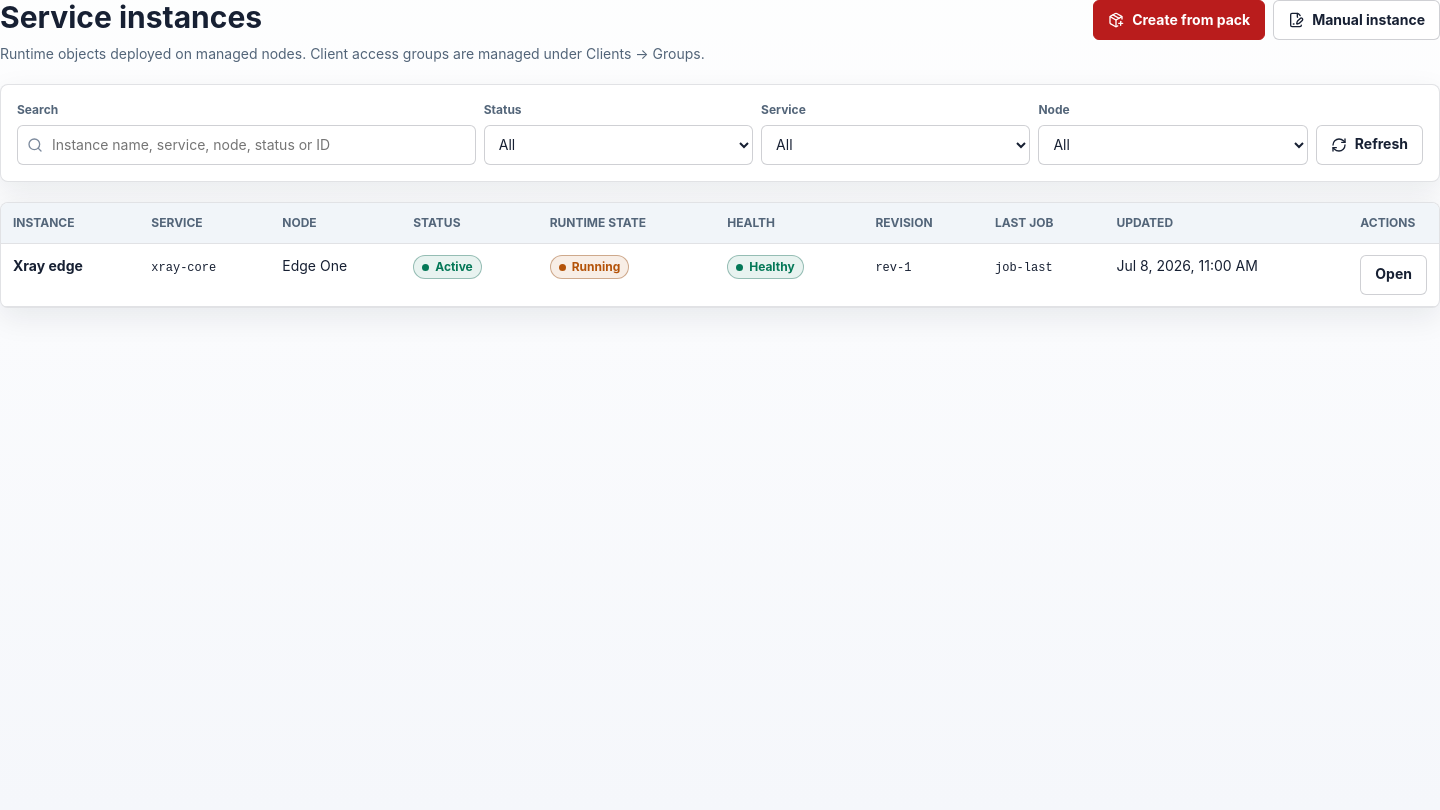
Scenario: InstancesPage › rolls back an explicit revision and queues a real apply job
The width and height of the screenshot is (1440, 810).
Expected: the text "Xray edge" is shown, [13,256,83,274]
Click the button "Open" at x=1394, y=274, box [1360,254,1427,294]
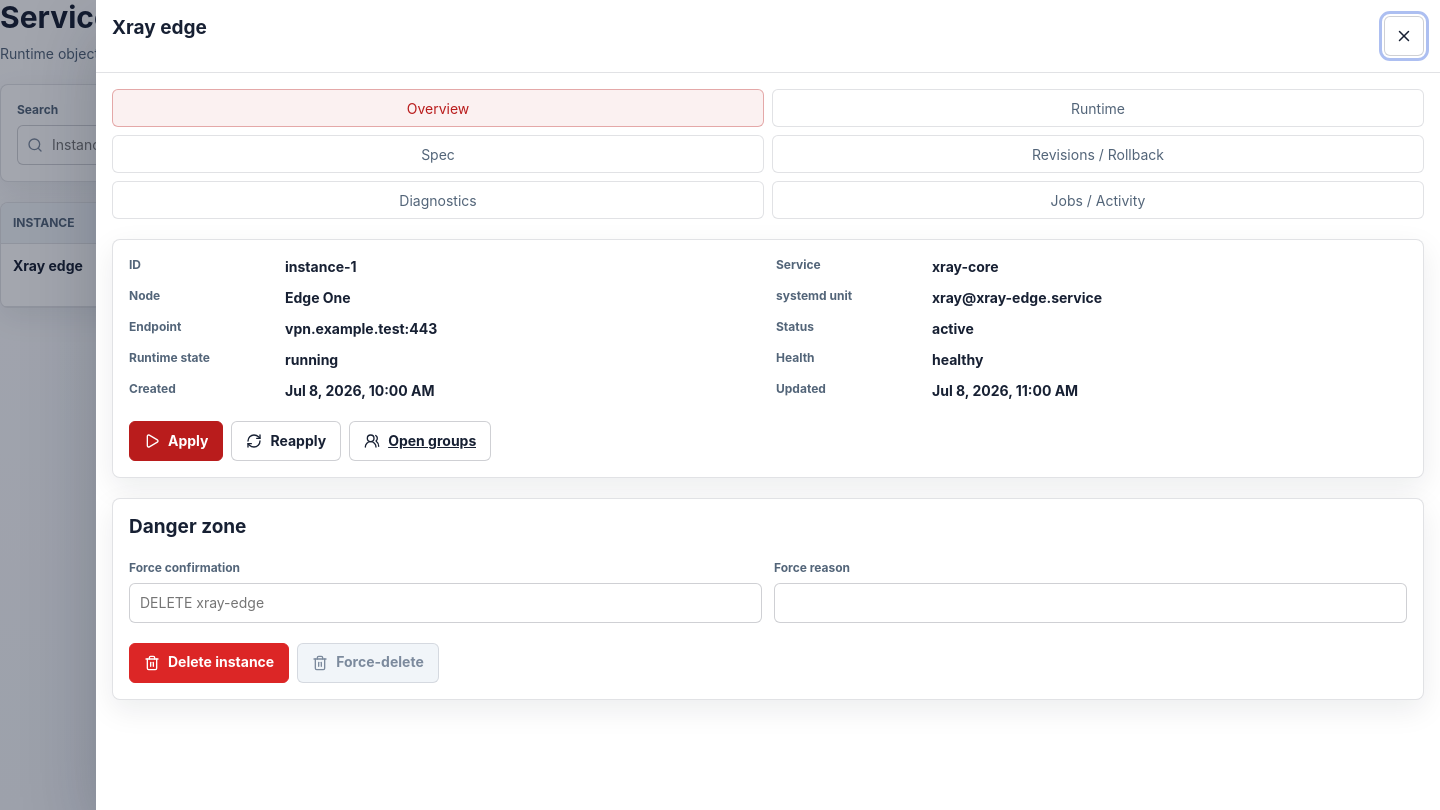
Result: the heading "Xray edge" is shown at [112,16,207,40]
Click the tab "Revisions / Rollback" at x=1098, y=154, box [772,135,1424,173]
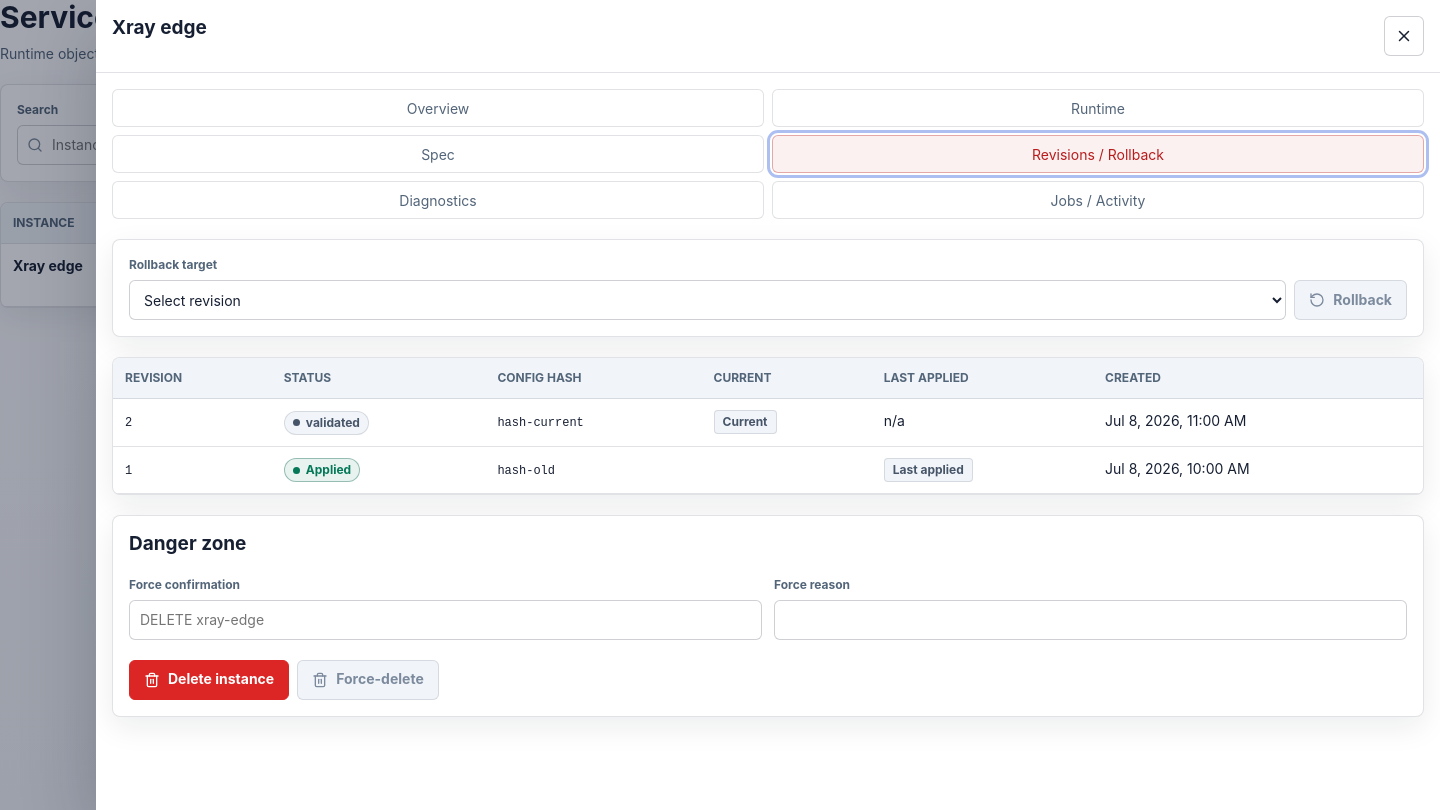
Select "#1 rev-1" in the dropdown labelled "Rollback target" at x=708, y=300, box [129,280,1286,320]
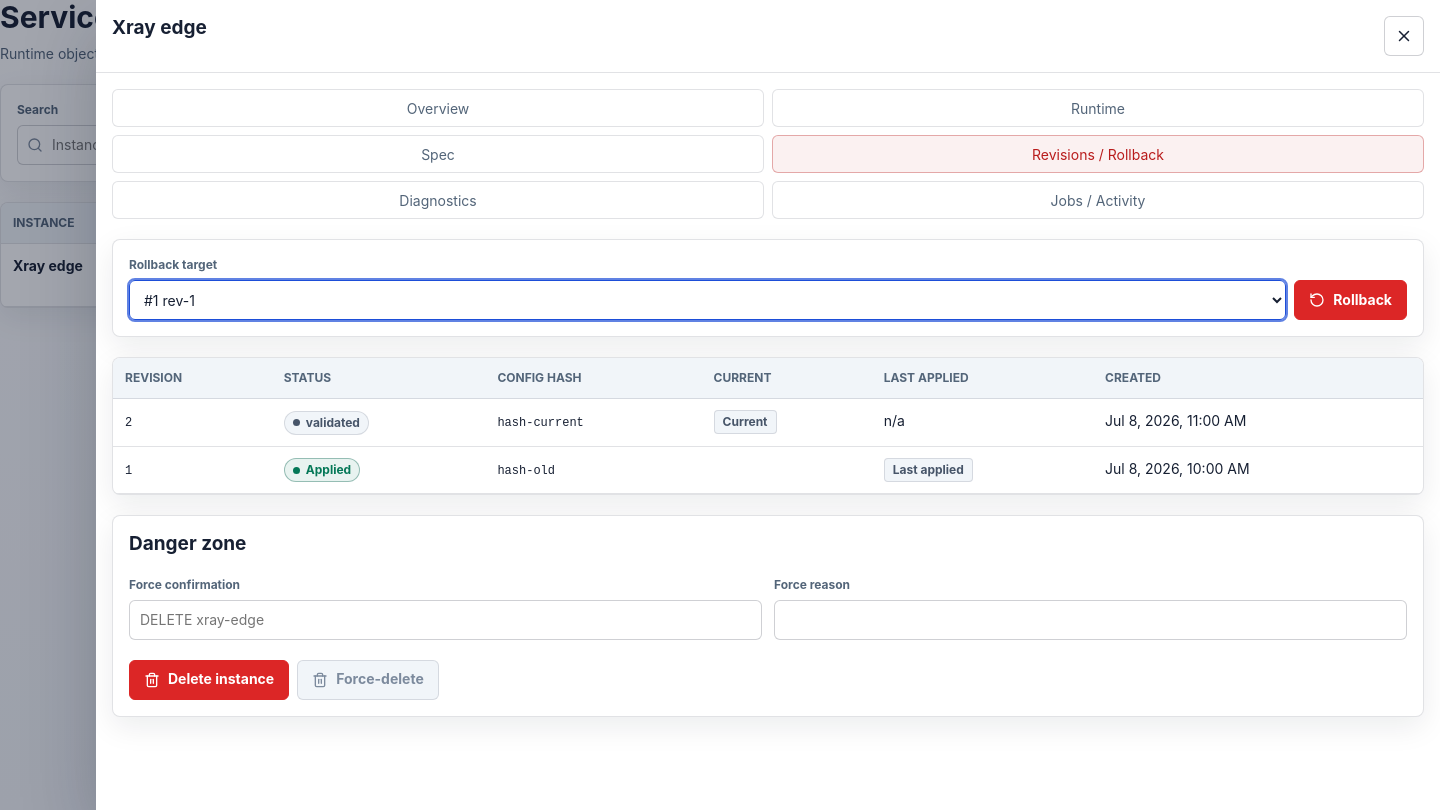
Click the button "Rollback" at x=1351, y=300, box [1294,280,1407,320]
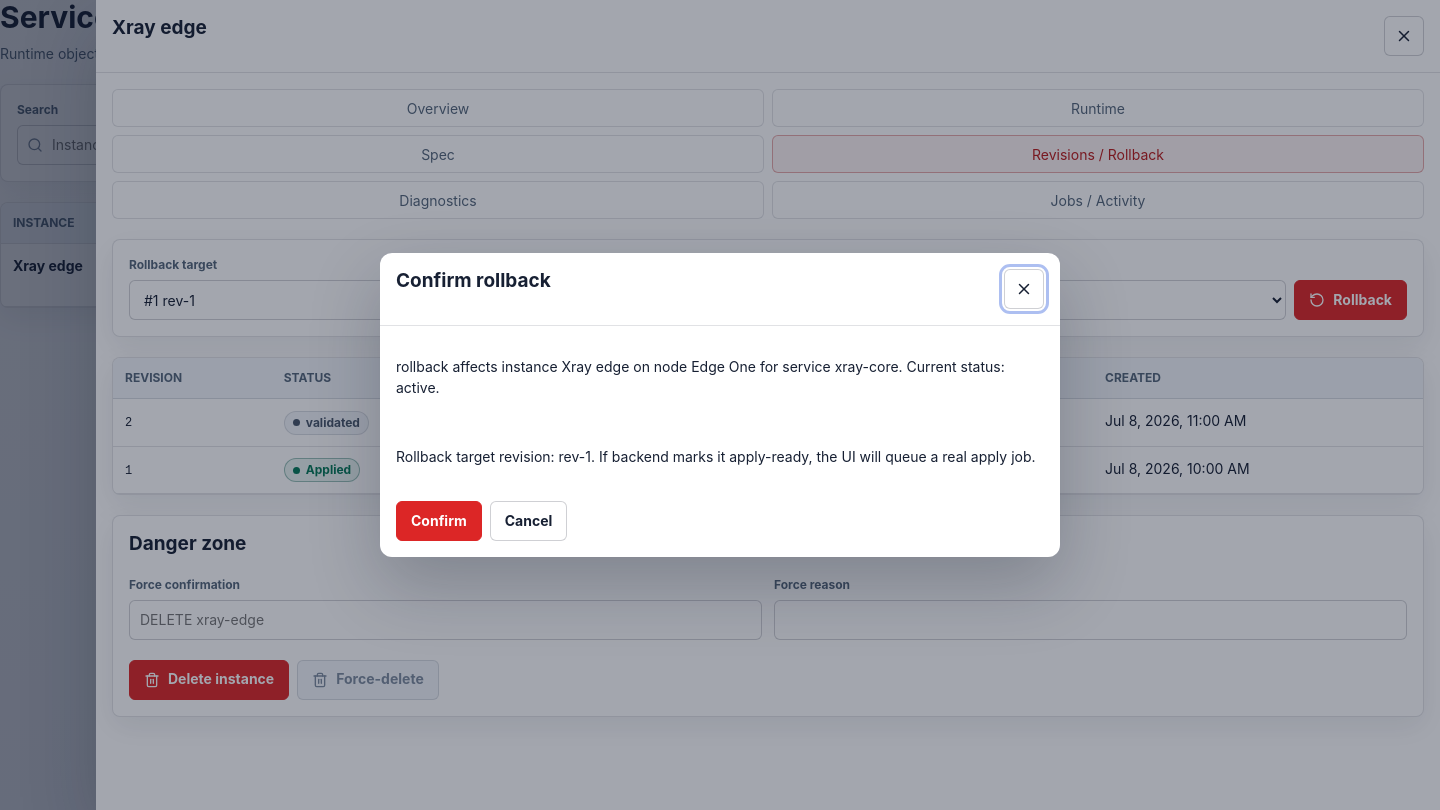
Click the button "Confirm" at x=439, y=521, box [396,501,482,541]
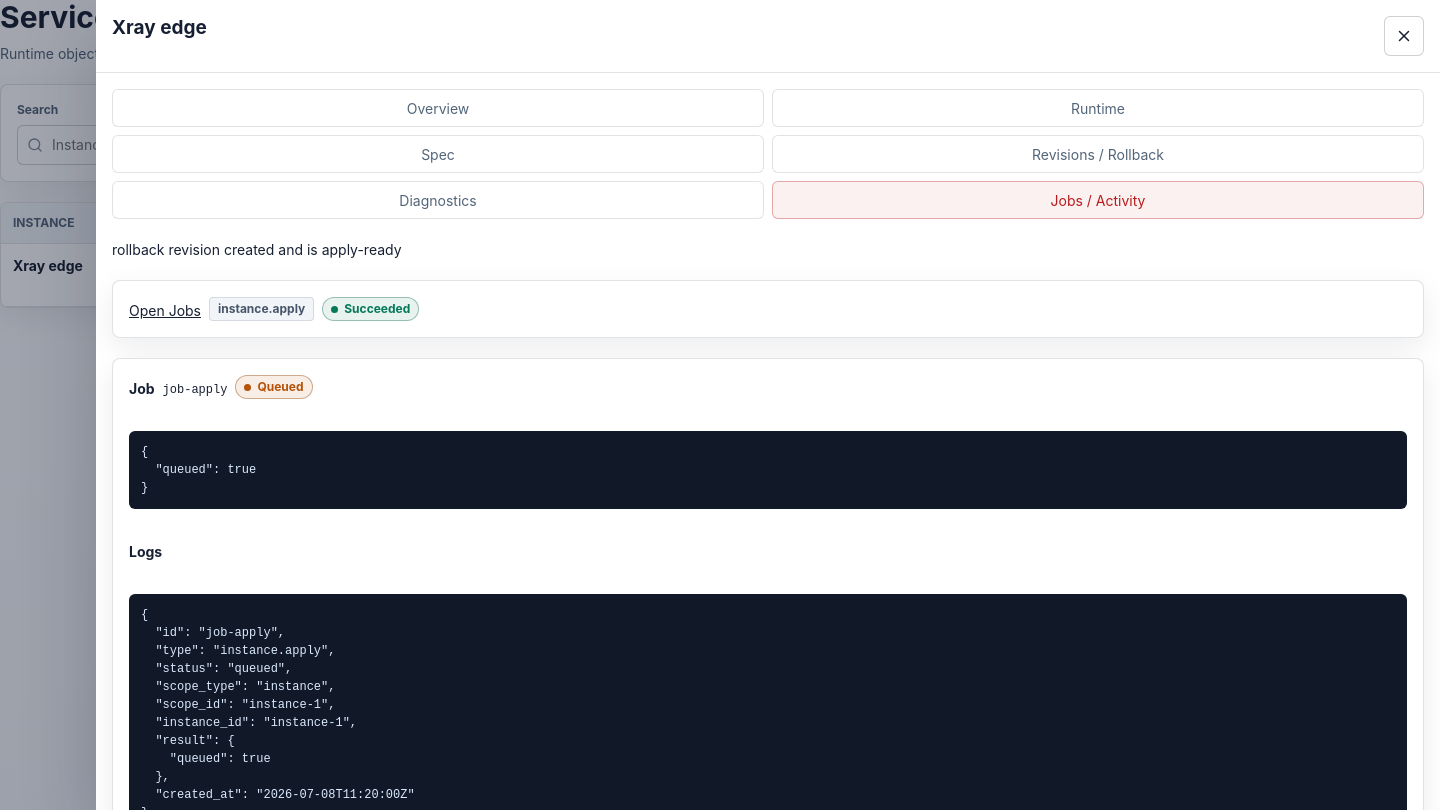
Result: the text "job-apply" is shown at [163,381,227,399]
